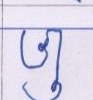u_matra: (20, 76, 66, 100)
